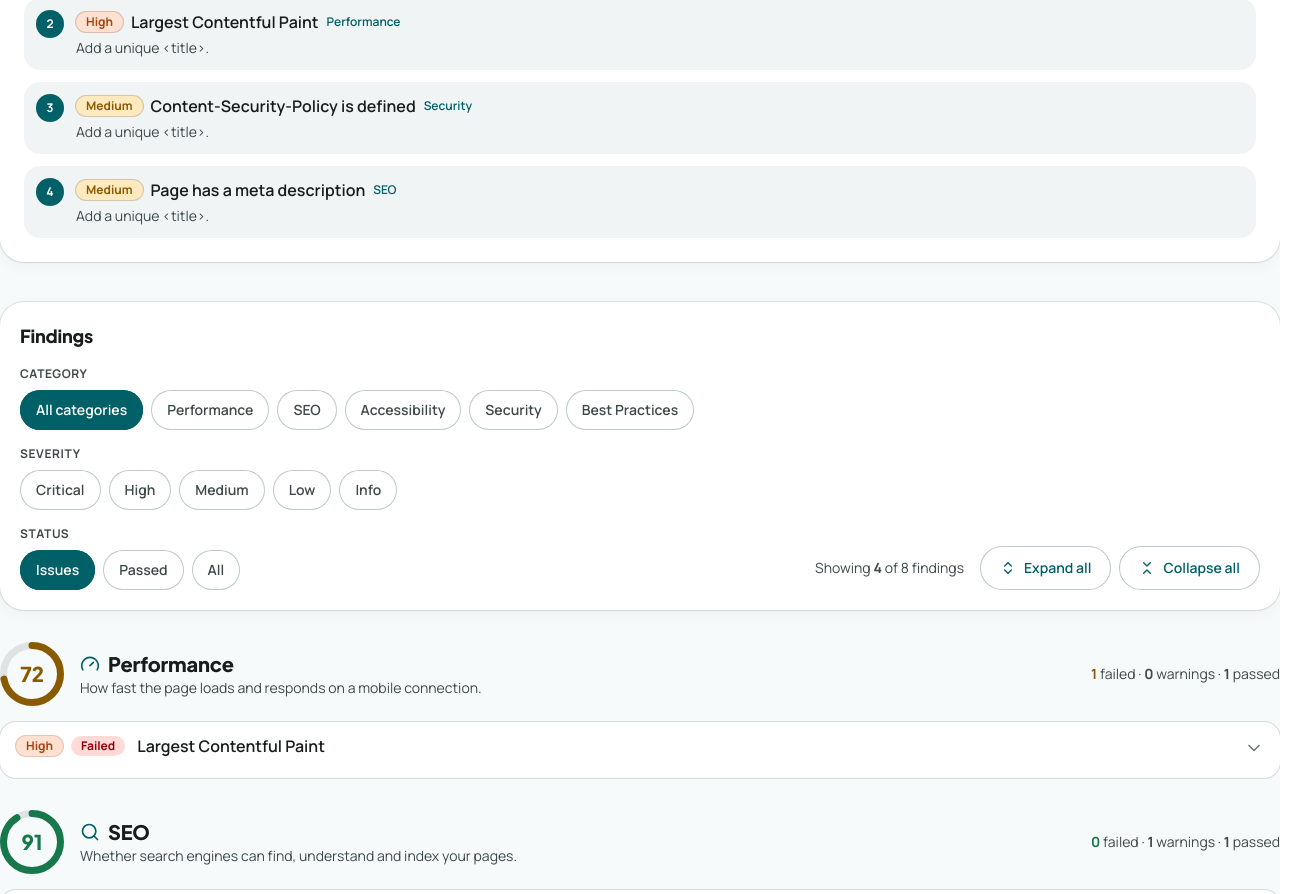
Scenario: ReportView: findings and filters › shows an empty state when filters match nothing
(page scrolled)
Click the button "Low" at point(302, 490), box [273,470,331,510]
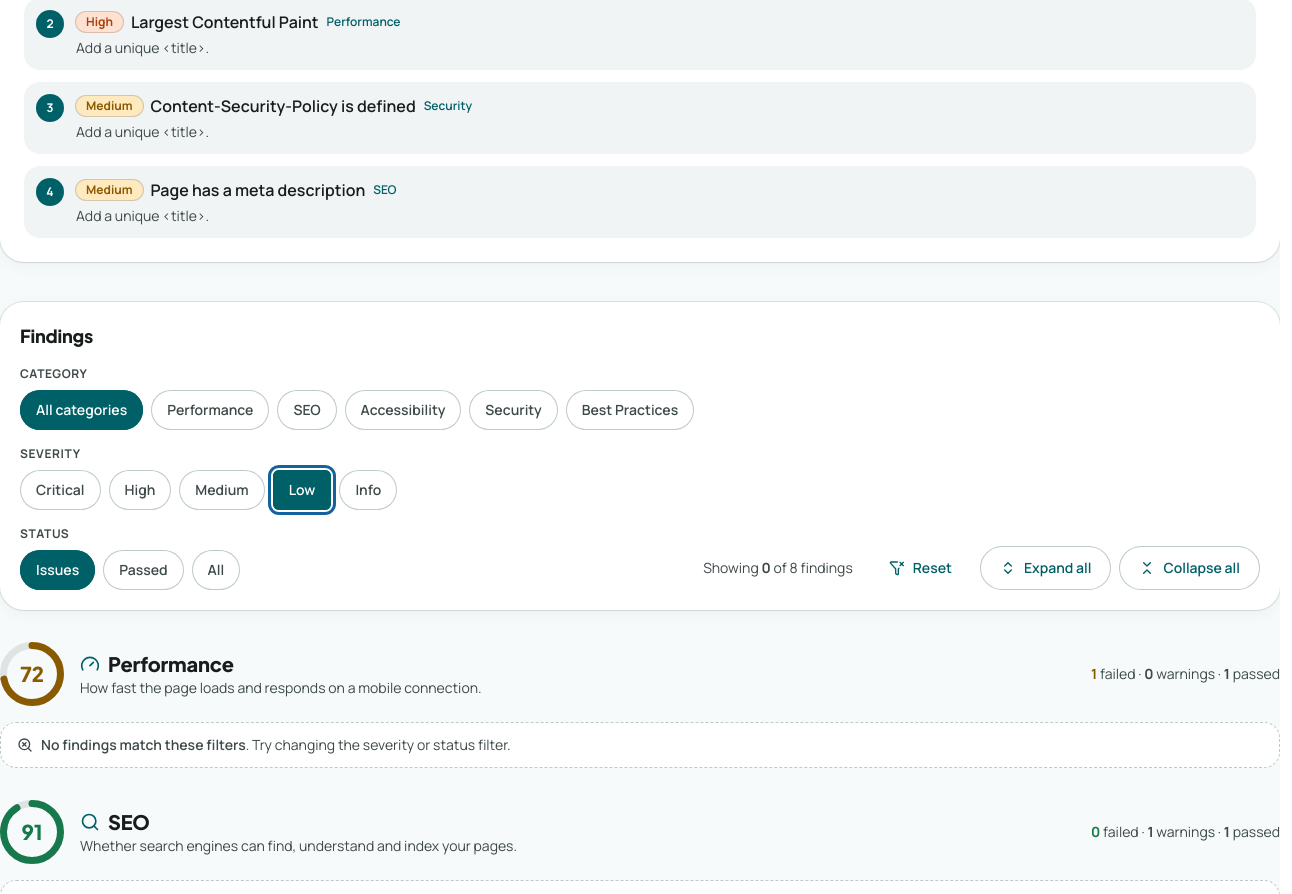
Expected: the 1st text "No findings match these filters" is shown, [41,735,246,754]
